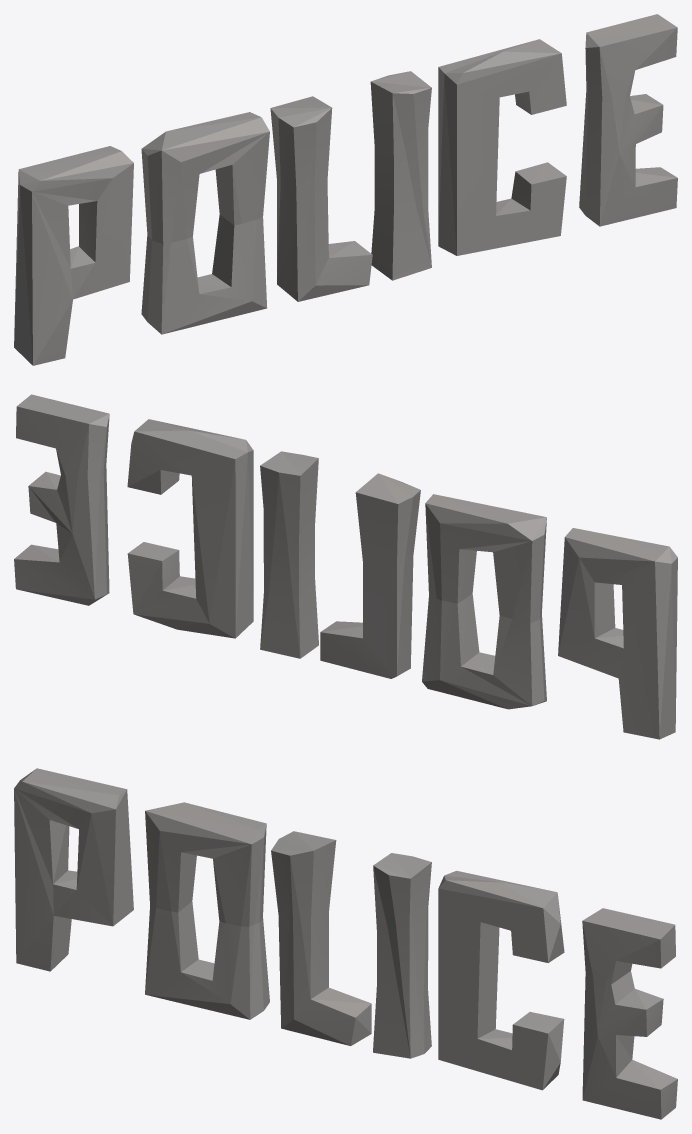
The model's file is SM_Prop_Sign_Police_01.obj.
3 renders of one model, top to bottom at view 1: azimuth 30°, elevation 25°; view 2: azimuth 150°, elevation 25°; view 3: azimuth 330°, elevation 25°, orthographic.
Visible parts, largest first — view 1: SM_Prop_Sign_Police_01_0; view 2: SM_Prop_Sign_Police_01_0; view 3: SM_Prop_Sign_Police_01_0.
Part boxes in pixels (box(x1,y1,x2,y2)): SM_Prop_Sign_Police_01_0: box(14, 14, 677, 365); SM_Prop_Sign_Police_01_0: box(14, 394, 677, 739); SM_Prop_Sign_Police_01_0: box(14, 768, 677, 1119).
Bounding box in the file's own units: 1.94 × 0.5508 × 0.1324.
Materials: 1 (1 with a texture image).
